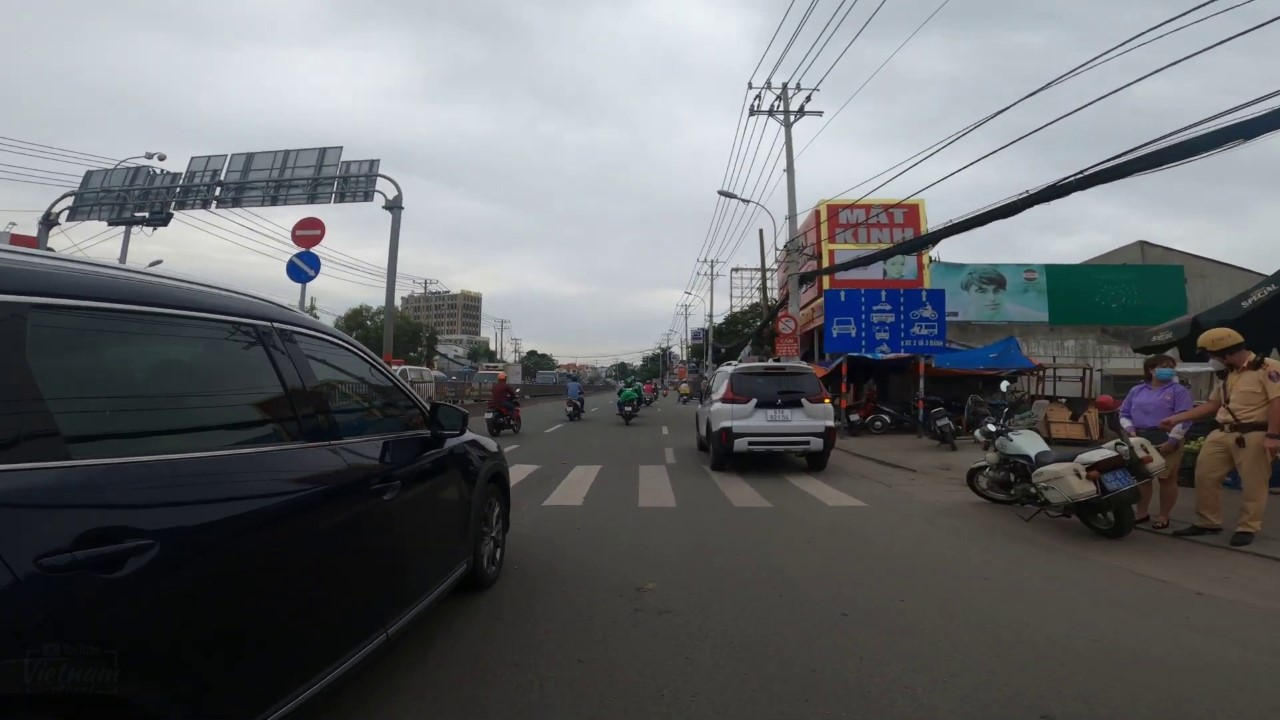cam_nguoc_chieu: (290, 216, 327, 248)
huong_phai_di_vong: (286, 251, 321, 284)
